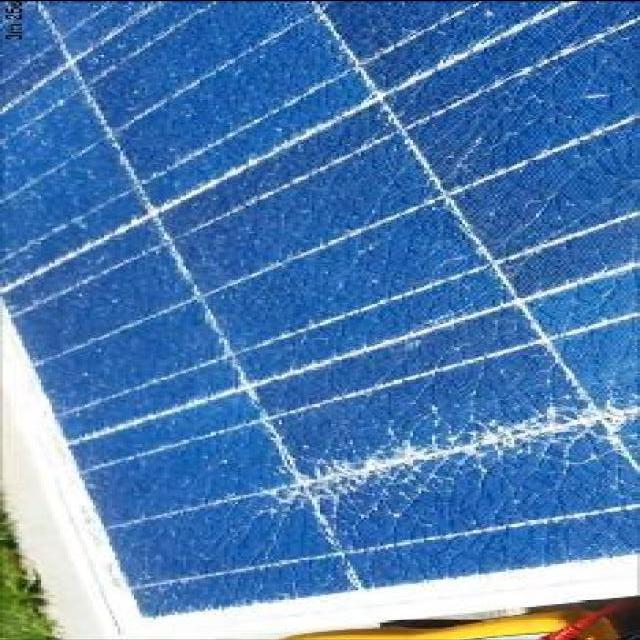cracked: (52, 0, 640, 613)
